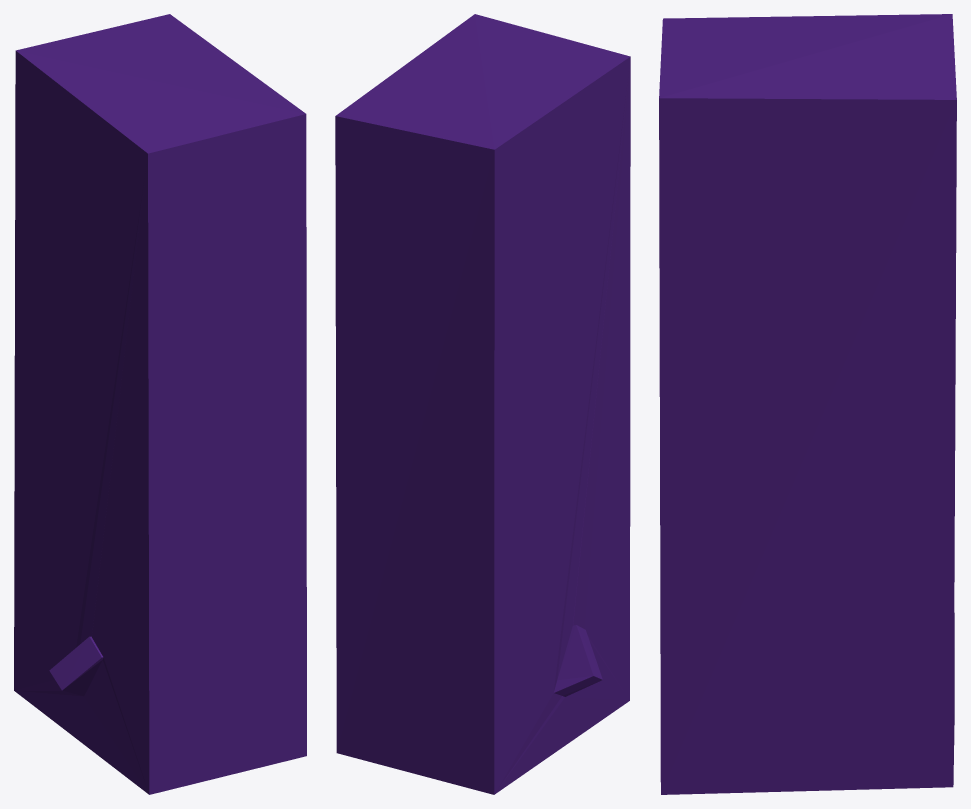
3 views of the same model, side by side, from view 1: azimuth 30°, elevation 25°; view 2: azimuth 150°, elevation 25°; view 3: azimuth 270°, elevation 25° (orthographic). The views are drawn at different scales.
Visible parts, largest first — view 1: 953_Cube.3857; view 2: 953_Cube.3857; view 3: 953_Cube.3857.
Part boxes in pixels (x1=…): 953_Cube.3857: x1=14, y1=14, x2=306, y2=794; 953_Cube.3857: x1=335, y1=14, x2=630, y2=794; 953_Cube.3857: x1=659, y1=14, x2=956, y2=794.
Bounding box in the file's own units: 3.71 × 12.25 × 4.67.
